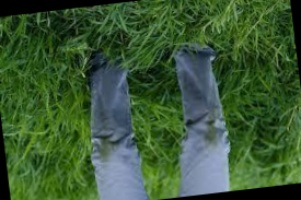earth: (98, 137, 110, 163), (204, 120, 215, 146)
